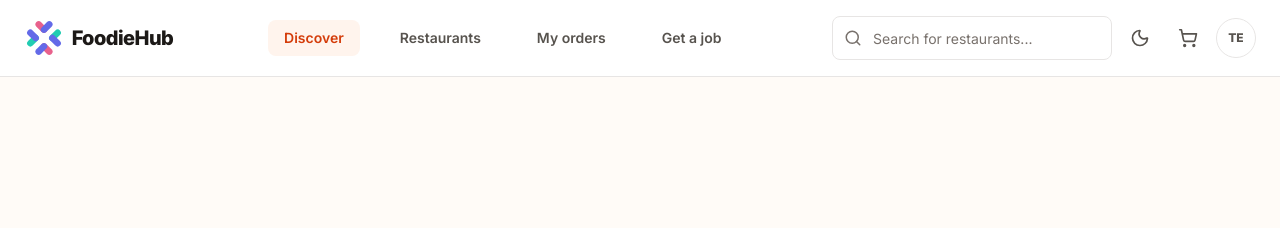
Header component › showing username in the menu
Click the button with aria-label "user" at (1236, 38), box [1216,18,1256,58]
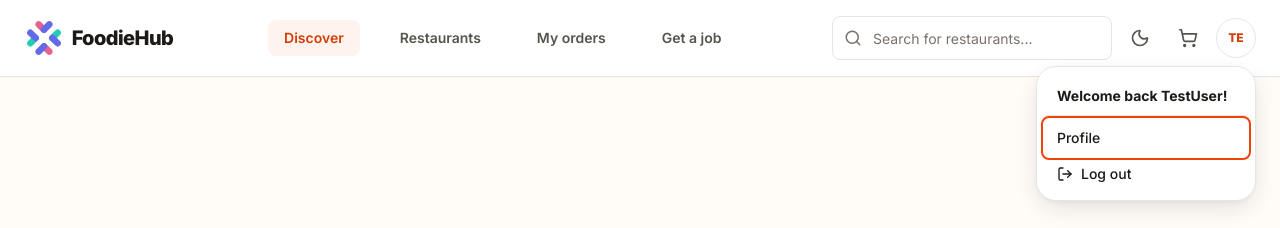
Result: the text "Welcome back TestUser!" is shown at [1057,87,1227,104]
